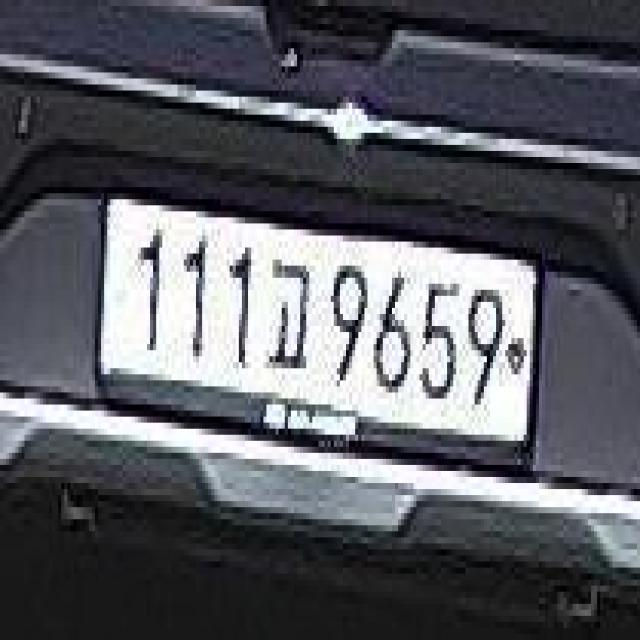illegal_plate: (95, 182, 541, 480)
